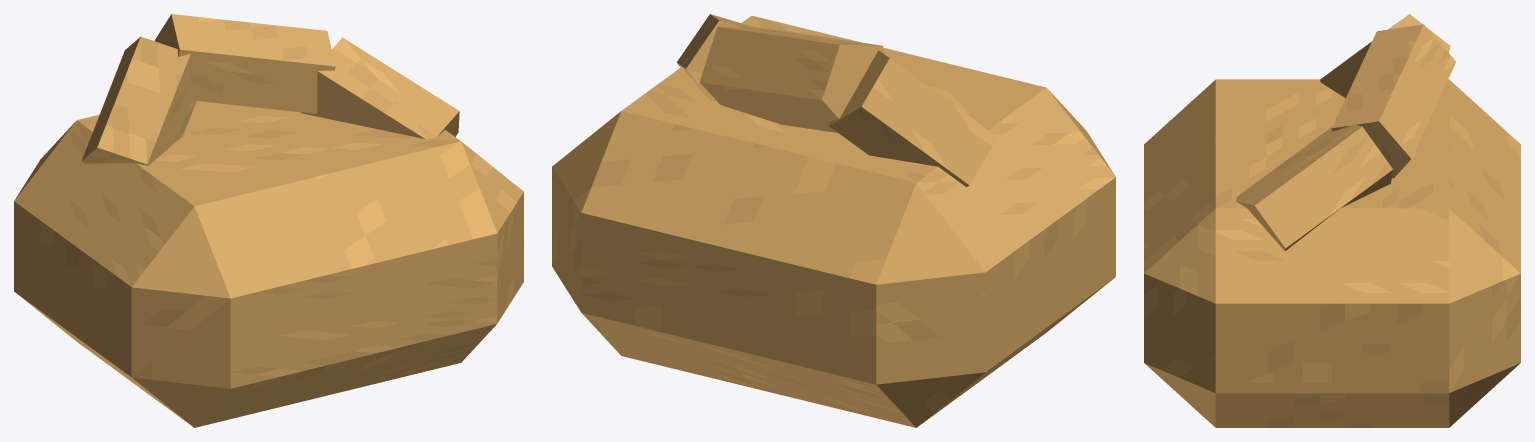
File: can_cheese.glb
3 views of the same model, side by side, from view 1: azimuth 30°, elevation 25°; view 2: azimuth 150°, elevation 25°; view 3: azimuth 270°, elevation 25° (orthographic). The views are drawn at different scales.
Parts seen in each view (by area): view 1: block_portion of cheese spread, block_cream fold 1, block_cream fold 0, block_cream fold 2; view 2: block_portion of cheese spread, block_cream fold 1, block_cream fold 0, block_cream fold 2; view 3: block_portion of cheese spread, block_cream fold 1, block_cream fold 2, block_cream fold 0.
Boxes of the visible parts, box(x1,y1,x2,y2) form: block_portion of cheese spread: box(14, 101, 523, 427); block_cream fold 1: box(154, 14, 335, 113); block_cream fold 0: box(81, 36, 196, 165); block_cream fold 2: box(300, 37, 459, 139); block_portion of cheese spread: box(552, 15, 1115, 427); block_cream fold 1: box(700, 26, 884, 132); block_cream fold 0: box(829, 50, 997, 187); block_cream fold 2: box(677, 14, 755, 100); block_portion of cheese spread: box(1144, 79, 1520, 427); block_cream fold 1: box(1332, 24, 1455, 178); block_cream fold 2: box(1236, 124, 1393, 251); block_cream fold 0: box(1320, 14, 1450, 98).
Bounding box in the file's own units: 0.05 × 0.0386 × 0.042.
1 material, 1 textured.
